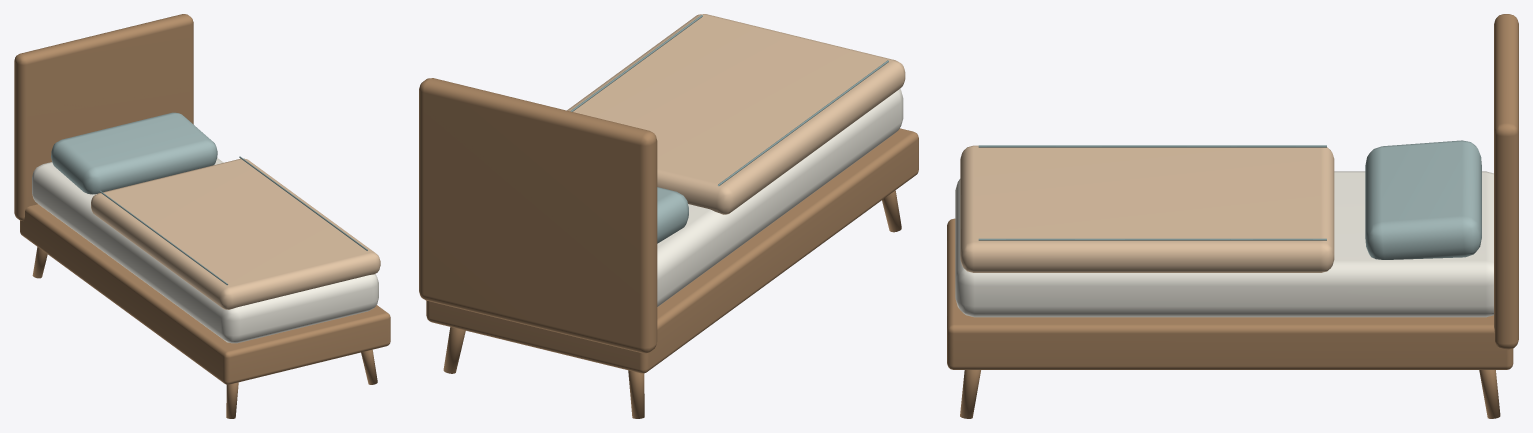
Rendered from atelier-single-bed.glb.
The picture shows the model from 3 angles, left to right: view 1: azimuth 30°, elevation 25°; view 2: azimuth 150°, elevation 25°; view 3: azimuth 270°, elevation 25°; orthographic projection. The views are drawn at different scales.
Visible parts, largest first — view 1: legs.023, bedding, ceramic, fabric.026, seams.025; view 2: legs.023, bedding, ceramic, fabric.026, seams.025; view 3: bedding, legs.023, ceramic, fabric.026, seams.025.
Boxes of the visible parts, left/top/right/bottom form: legs.023: left=14, top=14, right=390, bottom=418; bedding: left=91, top=158, right=380, bottom=309; ceramic: left=32, top=158, right=378, bottom=343; fabric.026: left=51, top=112, right=217, bottom=194; seams.025: left=99, top=156, right=367, bottom=285; legs.023: left=419, top=78, right=918, bottom=418; bedding: left=567, top=14, right=905, bottom=214; ceramic: left=657, top=89, right=903, bottom=306; fabric.026: left=657, top=187, right=688, bottom=243; seams.025: left=570, top=15, right=888, bottom=186; bedding: left=960, top=145, right=1334, bottom=272; legs.023: left=947, top=14, right=1518, bottom=418; ceramic: left=955, top=171, right=1493, bottom=317; fabric.026: left=1365, top=140, right=1481, bottom=259; seams.025: left=978, top=145, right=1326, bottom=240.
Size of the model in its own units: 0.9999 by 1.2 by 2.07.
